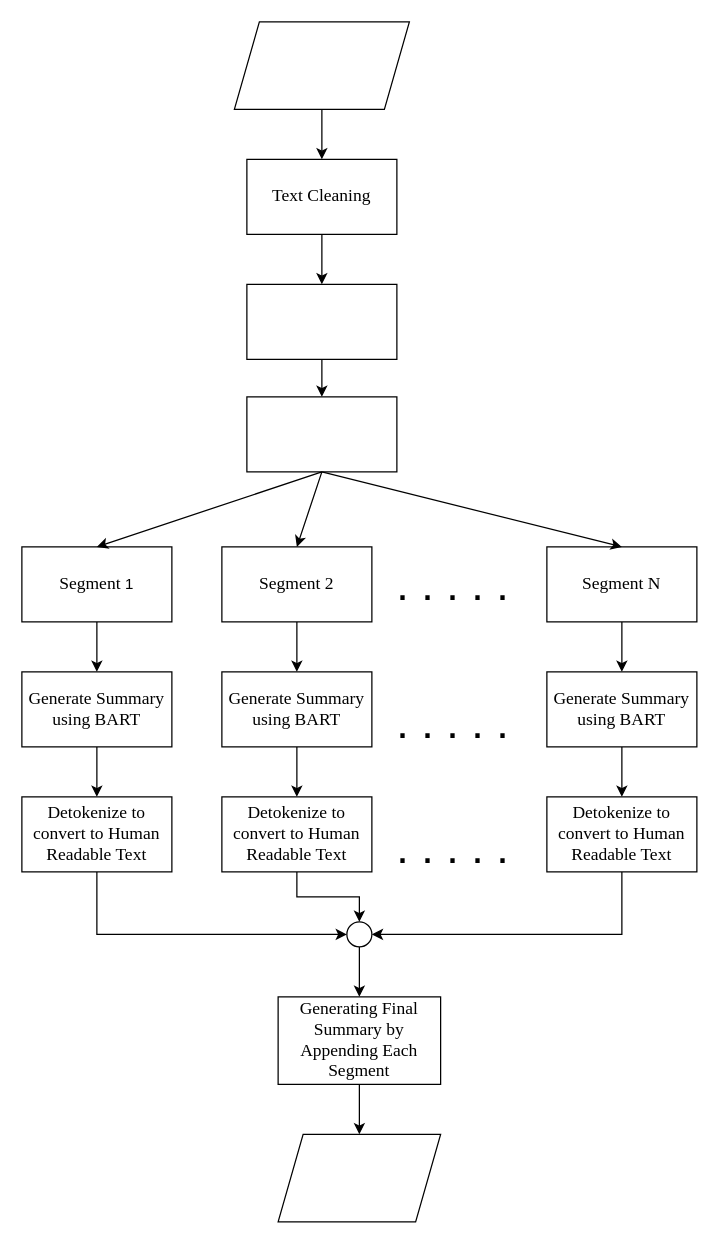
Some shapes in this 719 by 1244 pixel diagram are drawn without their labels. Each missing label, with the box of its shape:
Display Summary: (277, 1133, 441, 1222)
Segmentation: (246, 396, 397, 472)
Take Research Paper as Input: (233, 21, 409, 109)
Tokenize Text: (246, 283, 397, 359)
